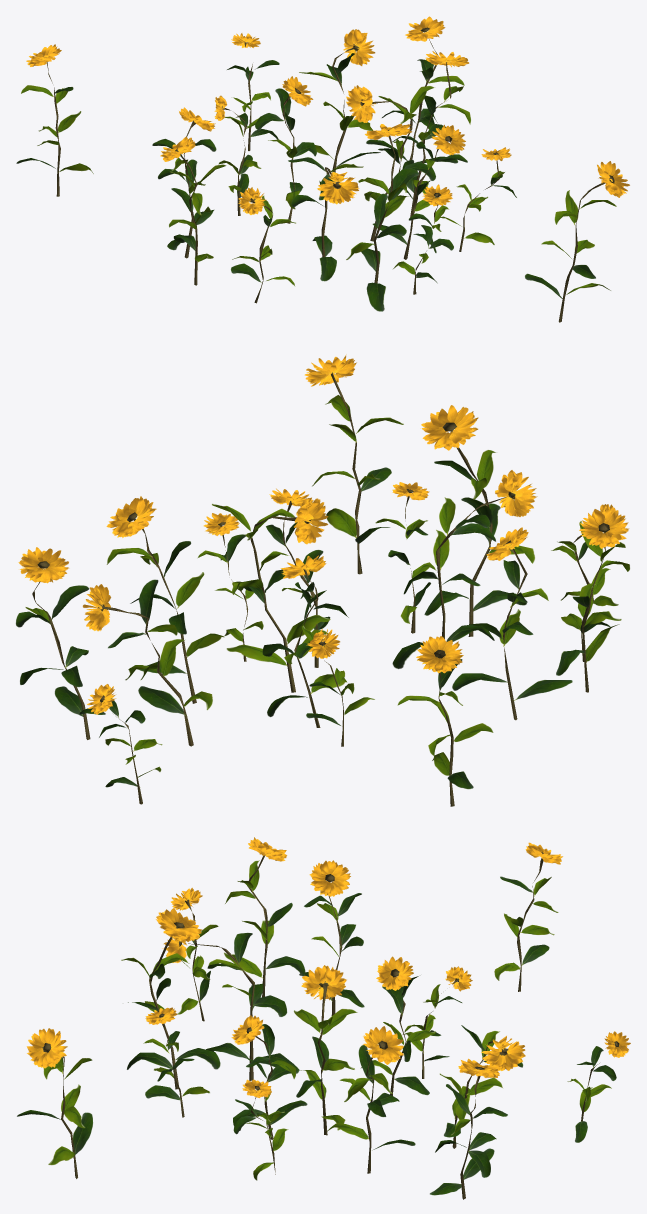
The model's file is flowers.glb.
3 renders of one model, top to bottom at view 1: azimuth 30°, elevation 25°; view 2: azimuth 150°, elevation 25°; view 3: azimuth 270°, elevation 25°, orthographic. The views are drawn at different scales.
Visible parts, largest first — view 1: flowers; view 2: flowers; view 3: flowers.
Boxes of the visible parts, x1,y1,x2,y2 form: flowers: (16, 16, 629, 322); flowers: (16, 354, 629, 806); flowers: (17, 837, 630, 1199).
Bounding box in the file's own units: 3.94 × 1.85 × 5.
Materials: 3 (3 with a texture image).
